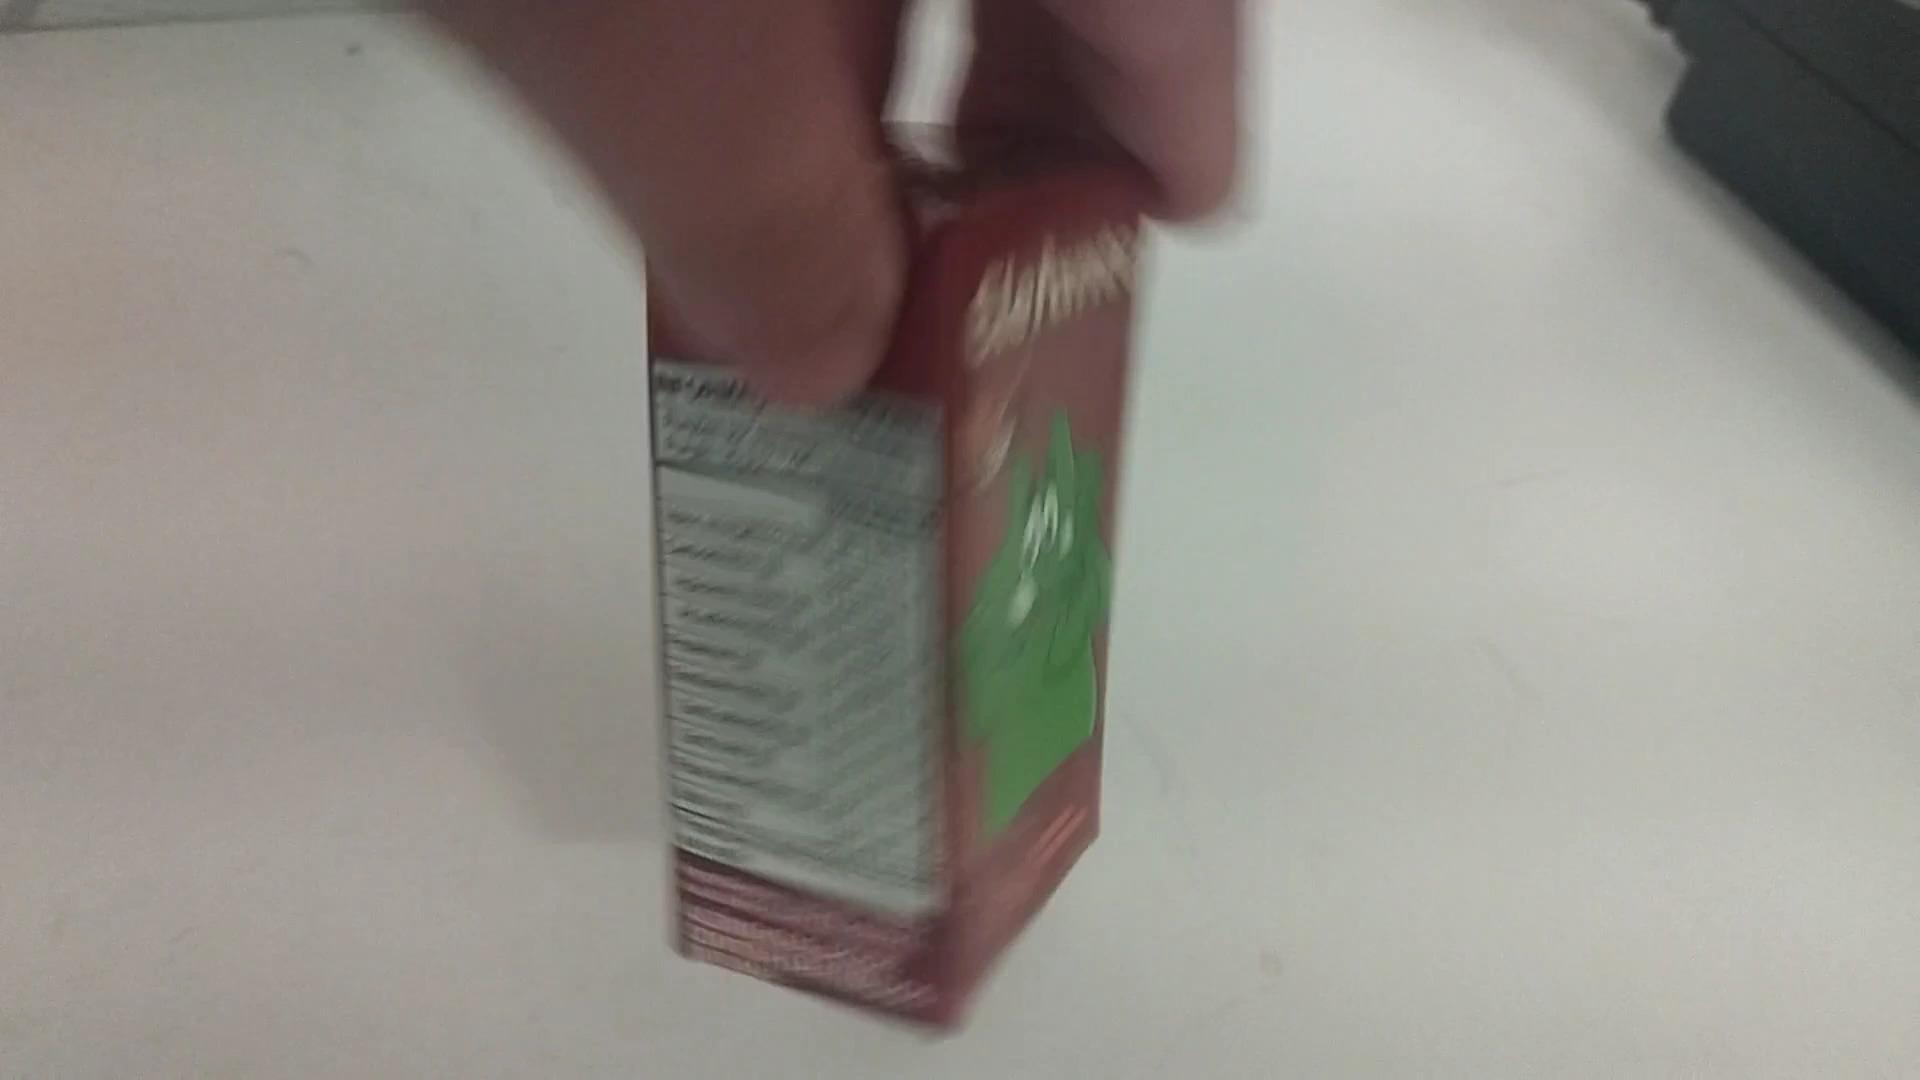tomate: (653, 133, 1145, 1044)
